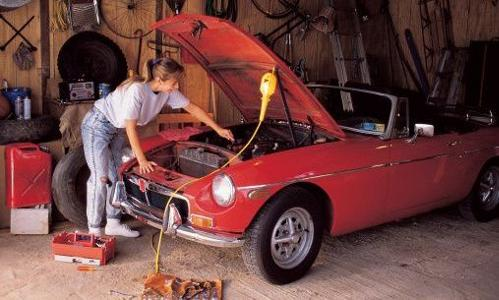person: (80, 58, 238, 240)
